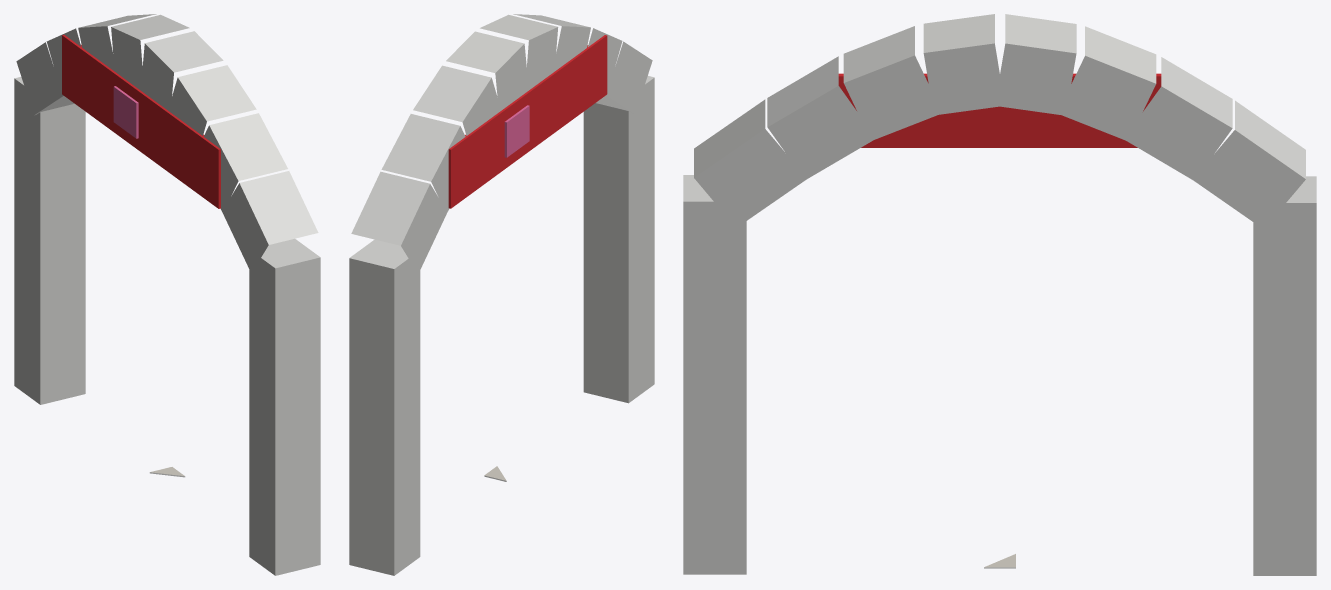
The model's file is frida_arch.glb.
3 renders of one model, left to right at view 1: azimuth 30°, elevation 25°; view 2: azimuth 150°, elevation 25°; view 3: azimuth 270°, elevation 25°, orthographic. The views are drawn at different scales.
Visible parts, largest first — view 1: frida_arch_lod0; view 2: frida_arch_lod0; view 3: frida_arch_lod0.
Boxes of the visible parts, x1,y1,x2,y2 form: frida_arch_lod0: (14,14,320,575); frida_arch_lod0: (349,14,654,575); frida_arch_lod0: (683,14,1316,575).
Size of what is drawn, in the model's own units: 0.48 by 3.72 by 4.
